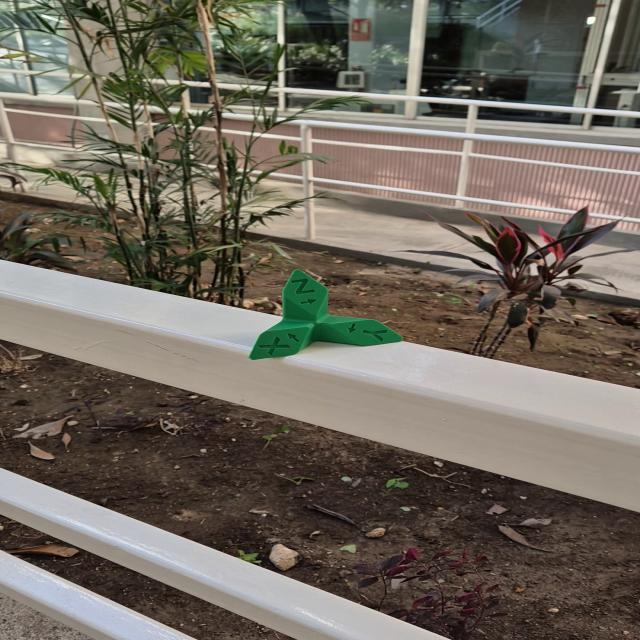objects: (246, 268, 404, 361)
